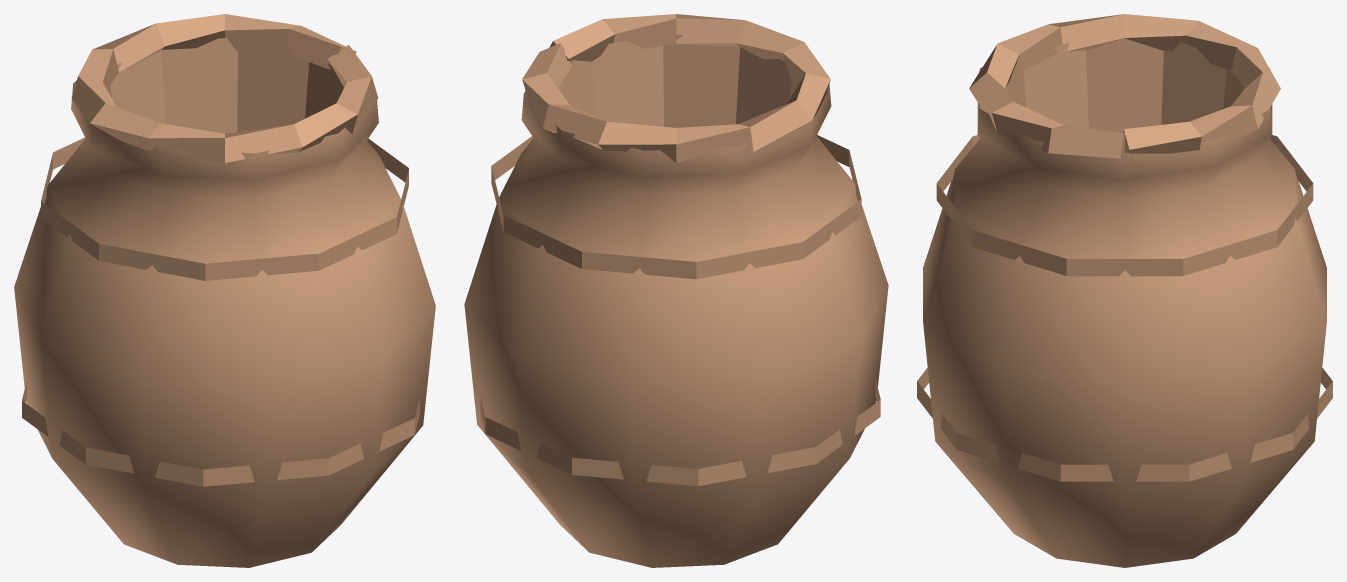
File: pot.glb
3 renders of one model, left to right at view 1: azimuth 30°, elevation 25°; view 2: azimuth 150°, elevation 25°; view 3: azimuth 270°, elevation 25°, orthographic.
Visible parts, largest first — view 1: pot; view 2: pot; view 3: pot.
Part boxes in pixels (x1,y1,x2,y2): pot: [14, 14, 435, 567]; pot: [464, 14, 888, 567]; pot: [917, 14, 1332, 567].
Bounding box in the file's own units: 0.34 × 0.3945 × 0.3329.
